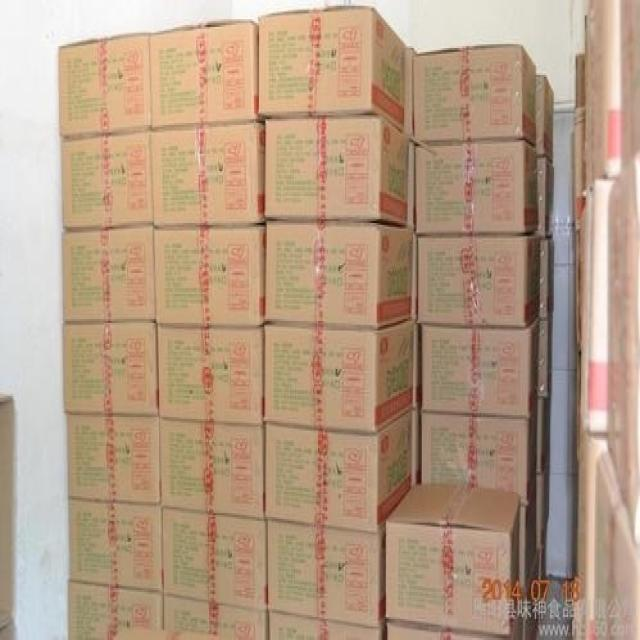box: (386, 482, 520, 638), (264, 406, 413, 529), (259, 8, 406, 128), (576, 158, 639, 438), (265, 318, 413, 434), (263, 117, 411, 230), (265, 219, 411, 326), (420, 400, 538, 506), (414, 44, 537, 145), (266, 521, 387, 623), (150, 122, 266, 225), (415, 139, 540, 233), (607, 158, 637, 546), (149, 21, 259, 126), (420, 318, 540, 414), (154, 224, 265, 325), (416, 236, 541, 325), (162, 506, 268, 610), (159, 416, 265, 518), (158, 326, 264, 426), (585, 0, 639, 191), (59, 34, 152, 137), (592, 437, 639, 637), (63, 321, 159, 418), (65, 409, 162, 503), (68, 497, 163, 592), (64, 225, 154, 323), (60, 133, 153, 226), (571, 409, 604, 636), (68, 580, 164, 638), (162, 593, 268, 638), (266, 610, 387, 638), (386, 615, 500, 638), (567, 109, 585, 232), (519, 493, 537, 595), (537, 74, 555, 165), (538, 153, 555, 238), (522, 561, 541, 636), (535, 394, 552, 473), (537, 467, 551, 551), (539, 318, 554, 395), (540, 239, 554, 319), (403, 47, 414, 138), (507, 595, 523, 638), (538, 538, 548, 604), (575, 52, 584, 110)
